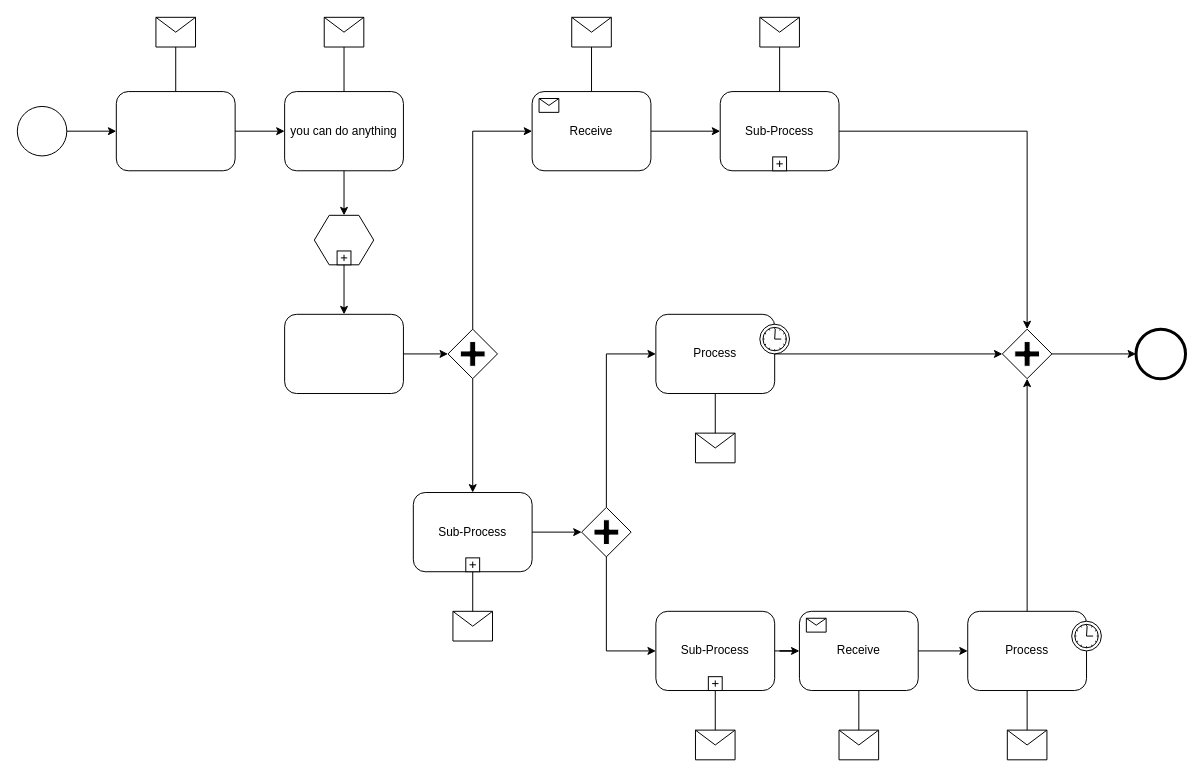
This 1203x777 diagram has some shape labels left out. Each missing label, with the box of its shape:
cool: (115, 91, 235, 171)
Task: (284, 313, 403, 394)
